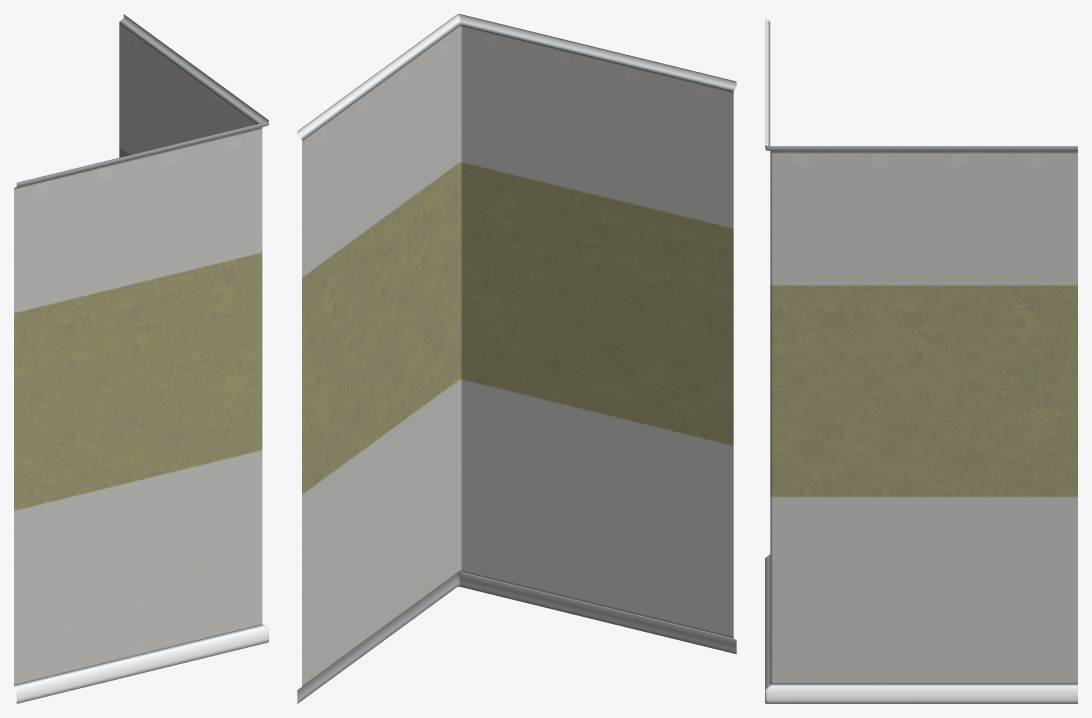
The model's file is waitingroom_convex.dae.
3 views of the same model, side by side, from view 1: azimuth 30°, elevation 25°; view 2: azimuth 150°, elevation 25°; view 3: azimuth 270°, elevation 25° (orthographic). The views are drawn at different scales.
Visible parts, largest first — view 1: waitingroom_convex; view 2: waitingroom_convex; view 3: waitingroom_convex.
Boxes of the visible parts, x1=… form: waitingroom_convex: x1=14, y1=14, x2=268, y2=703; waitingroom_convex: x1=297, y1=14, x2=736, y2=703; waitingroom_convex: x1=765, y1=18, x2=1077, y2=703.
Bounding box in the file's own units: 203 × 400 × 203.
